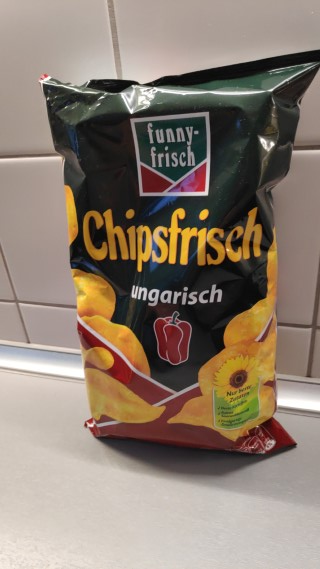chipsfrisch: (38, 48, 320, 456)
